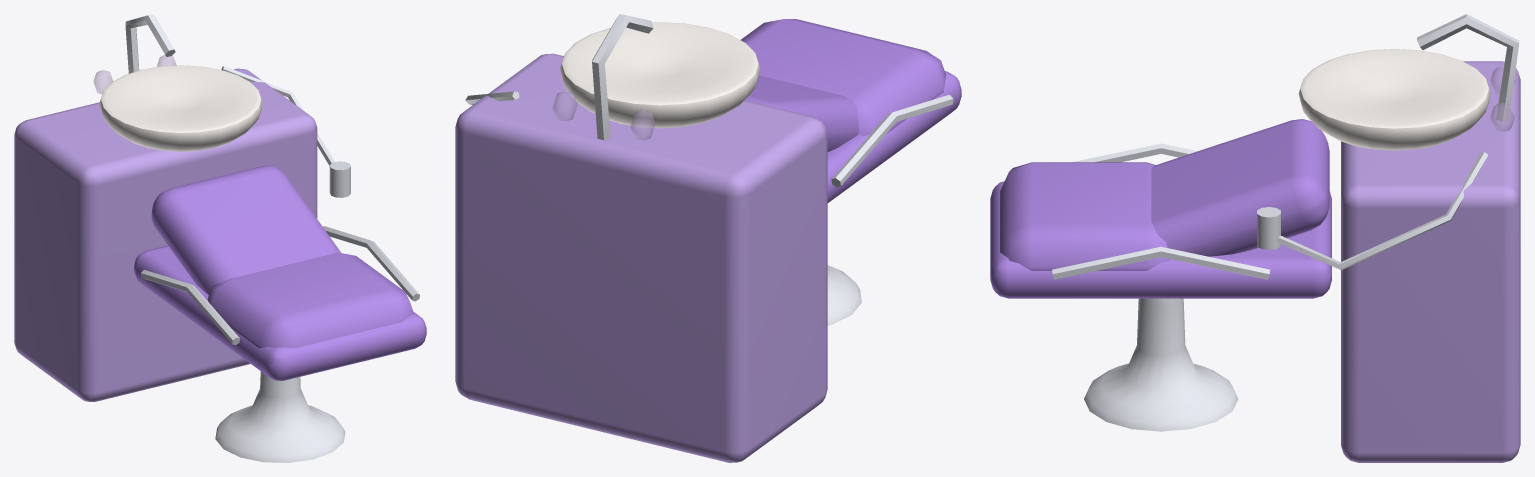
The model's file is washbasin_chair.glb.
The picture shows the model from 3 angles, left to right: view 1: azimuth 30°, elevation 25°; view 2: azimuth 150°, elevation 25°; view 3: azimuth 270°, elevation 25°; orthographic projection. The views are drawn at different scales.
Visible parts, largest first — view 1: washbasin_chair; view 2: washbasin_chair; view 3: washbasin_chair.
Boxes of the visible parts, left/top/right/bottom form: washbasin_chair: left=14, top=14, right=426, bottom=462; washbasin_chair: left=455, top=14, right=961, bottom=462; washbasin_chair: left=990, top=14, right=1520, bottom=462.
Bounding box in the file's own units: 0.9613 × 1.19 × 1.47.
